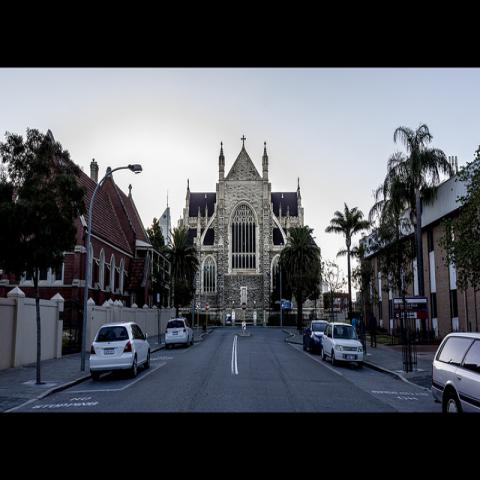car: (430, 334, 480, 414), (89, 323, 151, 381), (322, 323, 363, 368), (164, 318, 194, 348), (303, 321, 328, 355), (62, 330, 76, 350)
